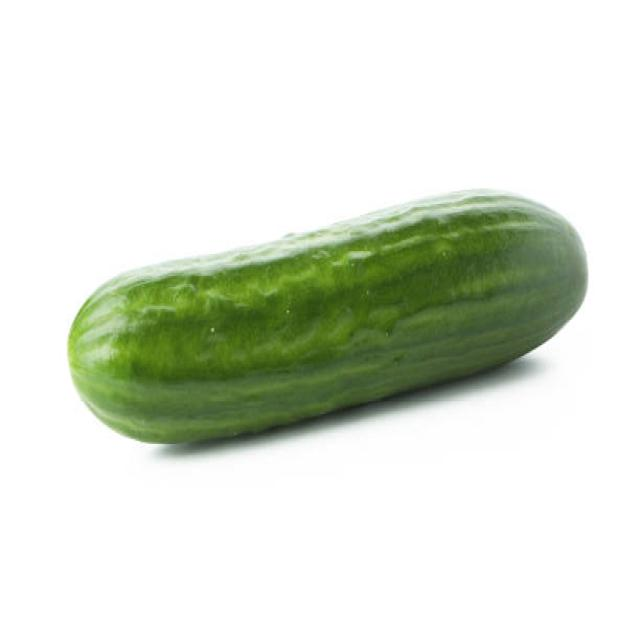cucumber: (68, 184, 588, 446)
